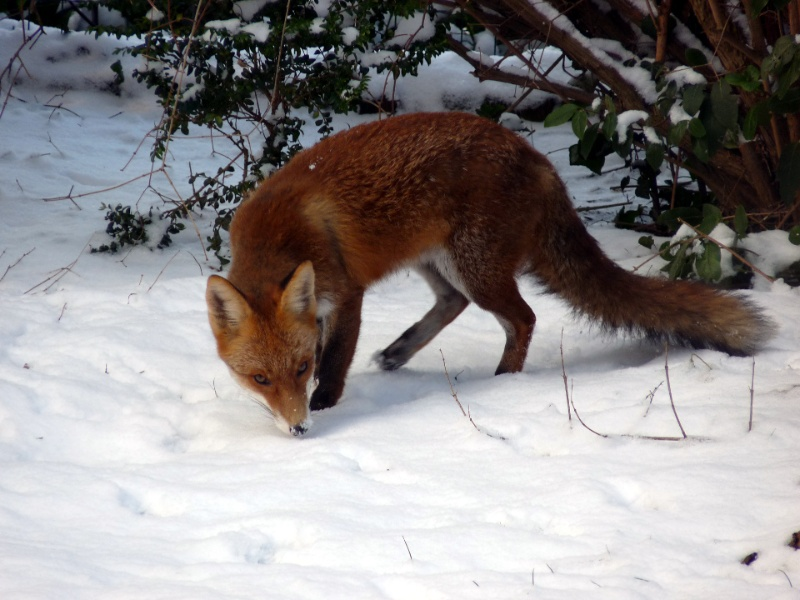fox: (207, 105, 775, 443)
